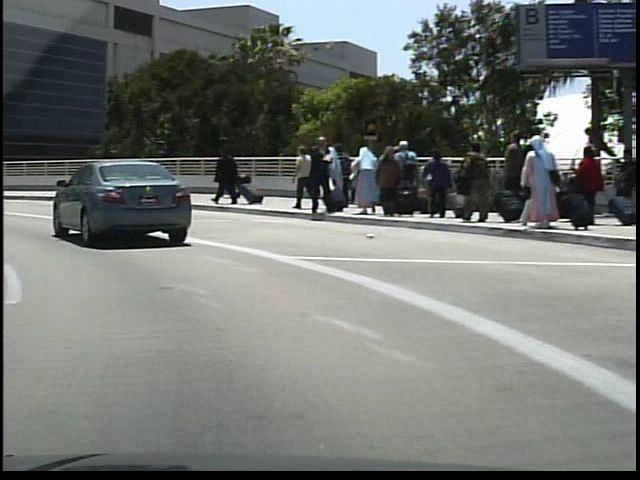person: (300, 134, 333, 213), (210, 145, 237, 206), (288, 142, 306, 208), (220, 153, 239, 200)
